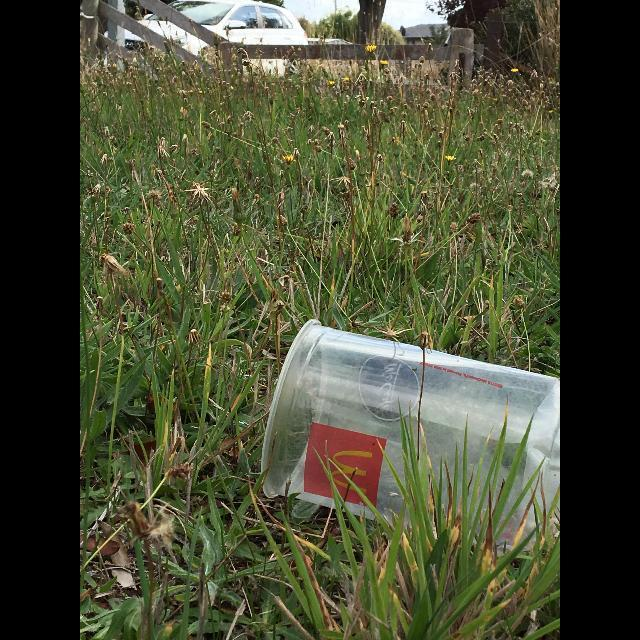Plastic: (261, 320, 559, 554)
